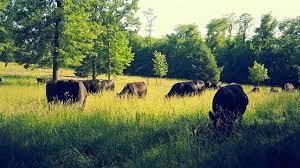cow: (208, 85, 250, 132), (44, 78, 90, 109), (167, 80, 205, 98), (82, 79, 115, 98), (117, 80, 150, 99), (248, 86, 263, 95), (283, 82, 296, 92), (269, 86, 280, 94)
